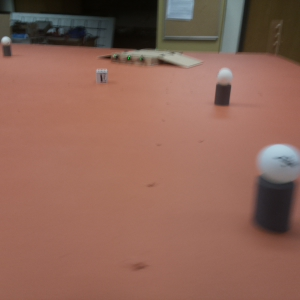obstacle: (253, 142, 299, 233), (213, 66, 232, 111), (1, 37, 14, 59)
side: (111, 52, 158, 69)
slope: (161, 52, 205, 68), (98, 50, 111, 61)
